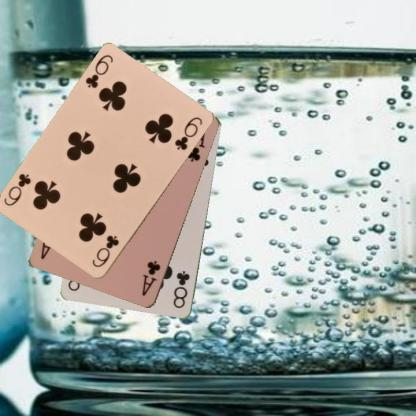6c: (83, 52, 115, 90), (90, 232, 120, 270)
8c: (170, 268, 192, 310)
Ac: (139, 258, 162, 298)
